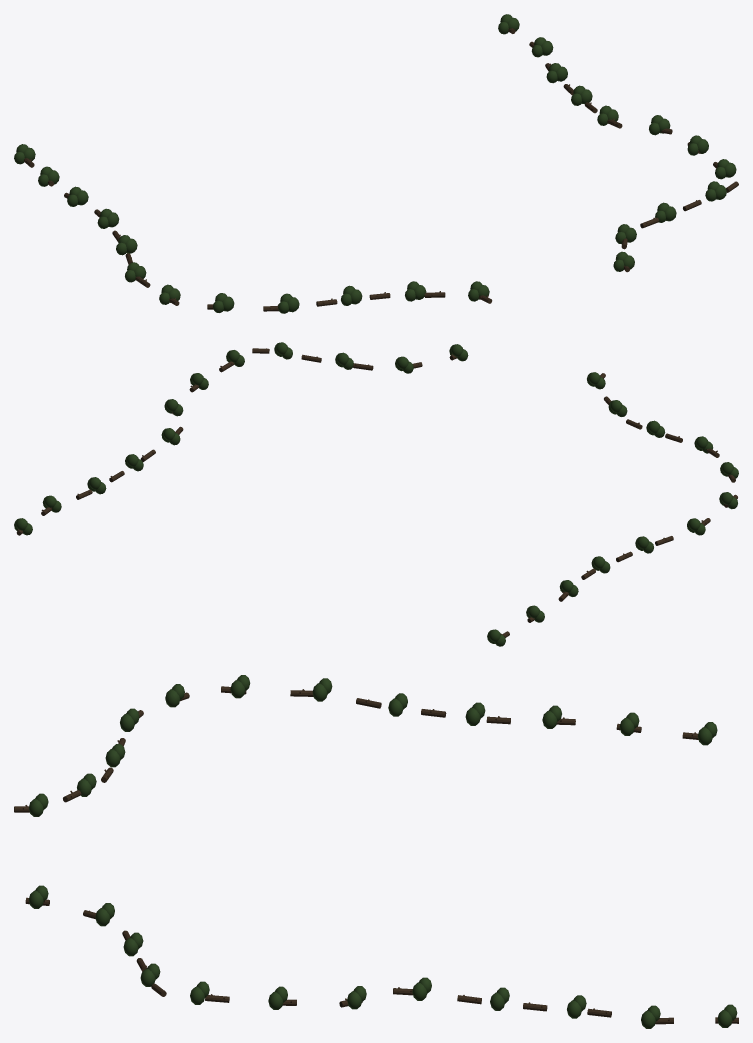
File: level_camp_boundary_logfall.glb
3 views of the same model, one above another, from view 1: azimuth 30°, elevation 25°; view 2: azimuth 150°, elevation 25°; view 3: azimuth 270°, elevation 25° (orthographic). The views are drawn at different scales.
Parts seen in each view (by area): view 1: level_camp_boundary_logfall; view 2: level_camp_boundary_logfall; view 3: level_camp_boundary_logfall.
Part boxes in pixels (<box>): level_camp_boundary_logfall: <box>14,14,738,313</box>; level_camp_boundary_logfall: <box>14,342,738,646</box>; level_camp_boundary_logfall: <box>14,675,738,1028</box>.
Size of the model in its own units: 61.57 by 4.47 by 57.41.
2 materials, 2 textured.
